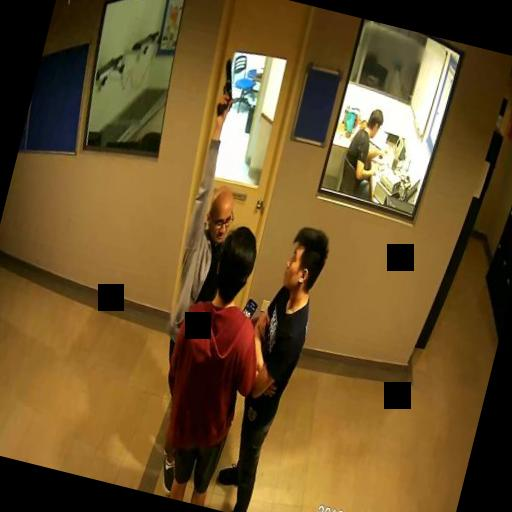Handgun: (212, 59, 241, 118)
